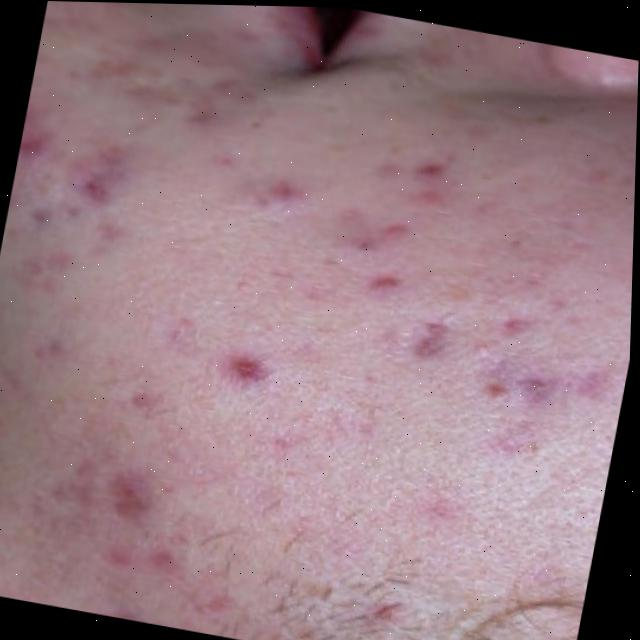Acne: (0, 19, 578, 640)
